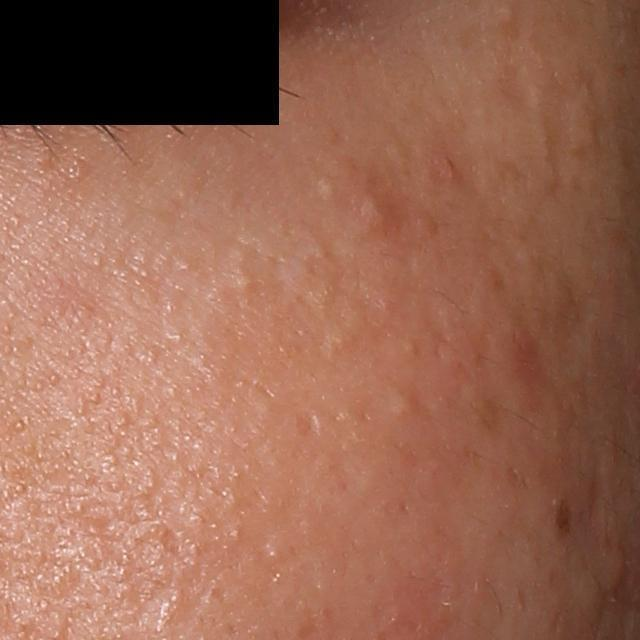atrophic_scar: (294, 410, 320, 440)
comedo: (229, 271, 256, 294), (263, 545, 285, 565), (498, 3, 517, 24)
nevus: (555, 501, 570, 537)
papule: (505, 321, 541, 392), (431, 152, 464, 183)
